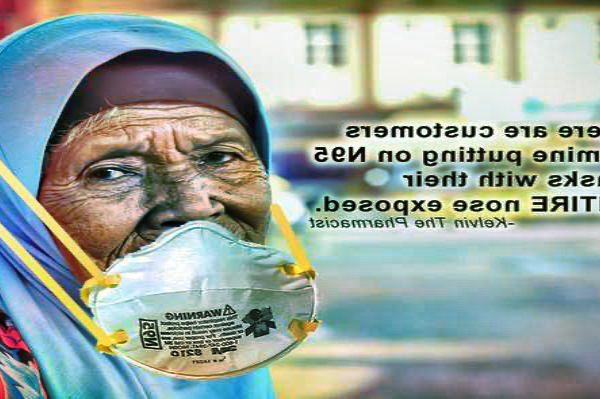mask_weared_incorrect: (48, 128, 274, 307)
